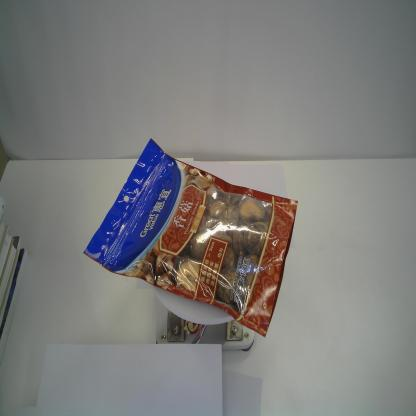Dried Food: (81, 139, 299, 340)
